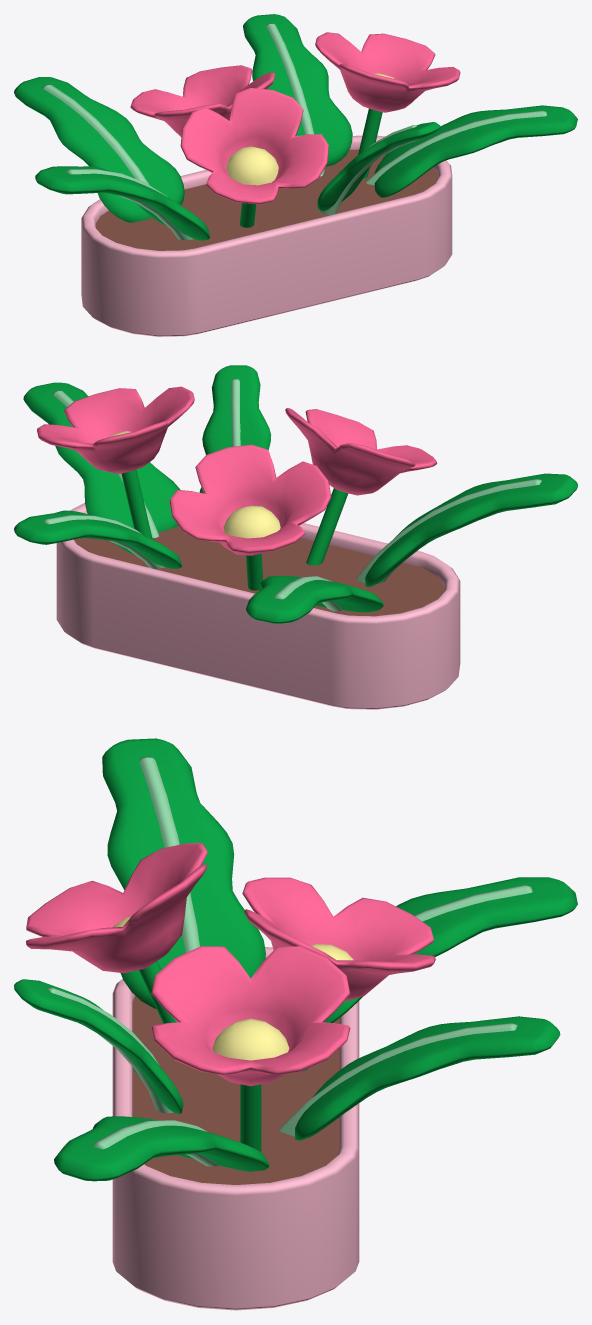
The model's file is Town_17_Vase_With_Flowers_3.glb.
The picture shows the model from 3 angles, top to bottom: view 1: azimuth 30°, elevation 25°; view 2: azimuth 150°, elevation 25°; view 3: azimuth 270°, elevation 25°; orthographic projection. The views are drawn at different scales.
Visible parts, largest first — view 1: Town_17_Vase_With_Flowers_3; view 2: Town_17_Vase_With_Flowers_3; view 3: Town_17_Vase_With_Flowers_3.
Boxes of the visible parts, left/top/right/bottom form: Town_17_Vase_With_Flowers_3: left=14, top=14, right=577, bottom=336; Town_17_Vase_With_Flowers_3: left=14, top=365, right=577, bottom=709; Town_17_Vase_With_Flowers_3: left=14, top=738, right=577, bottom=1310.
Size of the model in its own units: 1.54 by 0.5818 by 0.9915.
1 material, 1 textured.
